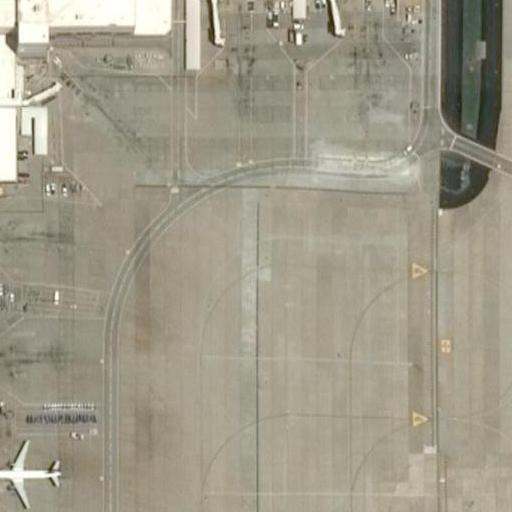Aircraft: (0, 437, 64, 508)
